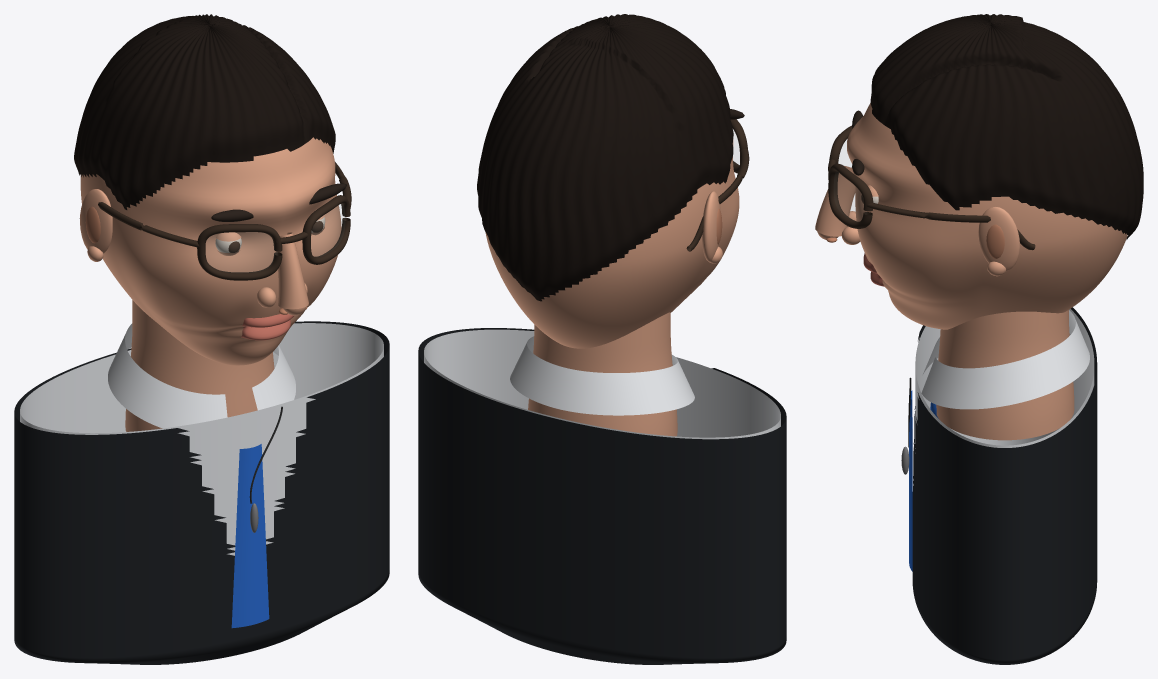
Rendered from woodward_face.glb.
3 views of the same model, side by side, from view 1: azimuth 30°, elevation 25°; view 2: azimuth 150°, elevation 25°; view 3: azimuth 270°, elevation 25° (orthographic). The views are drawn at different scales.
Parts seen in each view (by area): view 1: head_bust; view 2: head_bust; view 3: head_bust.
Part boxes in pixels (x1,y1,x2,y2): head_bust: [14, 14, 389, 664]; head_bust: [418, 14, 786, 664]; head_bust: [815, 14, 1143, 664].
Bounding box in the file's own units: 2.8 × 4.45 × 2.31.
